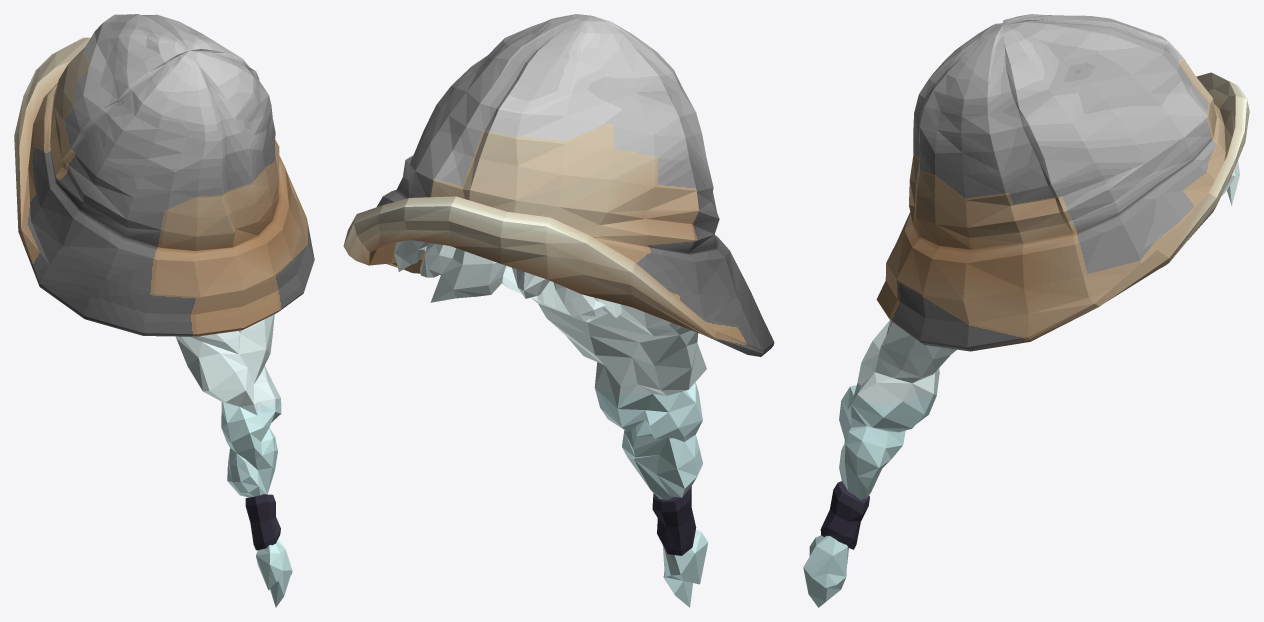
The model's file is CharSkyKid_Hair_AP13BucketHat_01.glb.
3 renders of one model, left to right at view 1: azimuth 30°, elevation 25°; view 2: azimuth 150°, elevation 25°; view 3: azimuth 270°, elevation 25°, orthographic. The views are drawn at different scales.
Parts seen in each view (by area): view 1: CharSkyKid_Hair_AP13BucketHat_01; view 2: CharSkyKid_Hair_AP13BucketHat_01; view 3: CharSkyKid_Hair_AP13BucketHat_01.
Part boxes in pixels (x1=…): CharSkyKid_Hair_AP13BucketHat_01: x1=14, y1=14, x2=314, y2=607; CharSkyKid_Hair_AP13BucketHat_01: x1=343, y1=14, x2=774, y2=607; CharSkyKid_Hair_AP13BucketHat_01: x1=803, y1=14, x2=1249, y2=607.
Bounding box in the file's own units: 3.38 × 5.98 × 4.14.
1 material, 1 textured.
